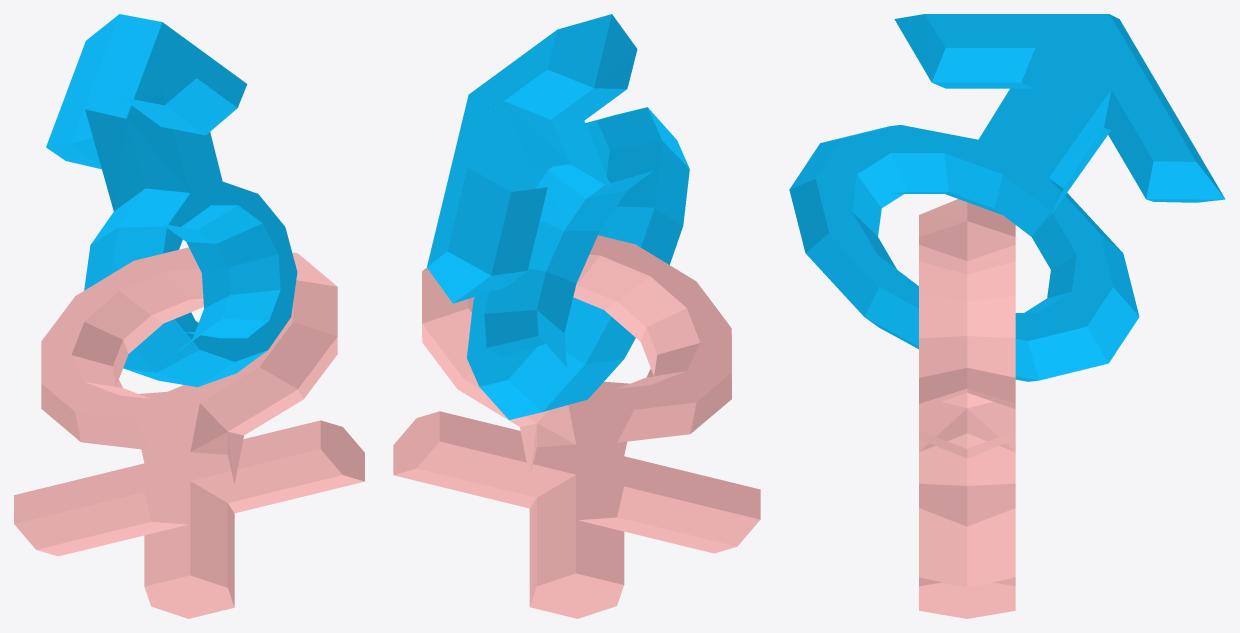
Rendered from ps2_save-icons_doublereactionplus.glb.
3 views of the same model, side by side, from view 1: azimuth 30°, elevation 25°; view 2: azimuth 150°, elevation 25°; view 3: azimuth 270°, elevation 25° (orthographic). The views are drawn at different scales.
Parts seen in each view (by area): view 1: icon.ico; view 2: icon.ico; view 3: icon.ico.
Boxes of the visible parts, bbox=[...] form: icon.ico: bbox=[14, 14, 364, 618]; icon.ico: bbox=[393, 14, 760, 618]; icon.ico: bbox=[789, 14, 1225, 618].
Size of the model in its own units: 2 by 3.32 by 2.26.
Materials: 1 (1 with a texture image).
